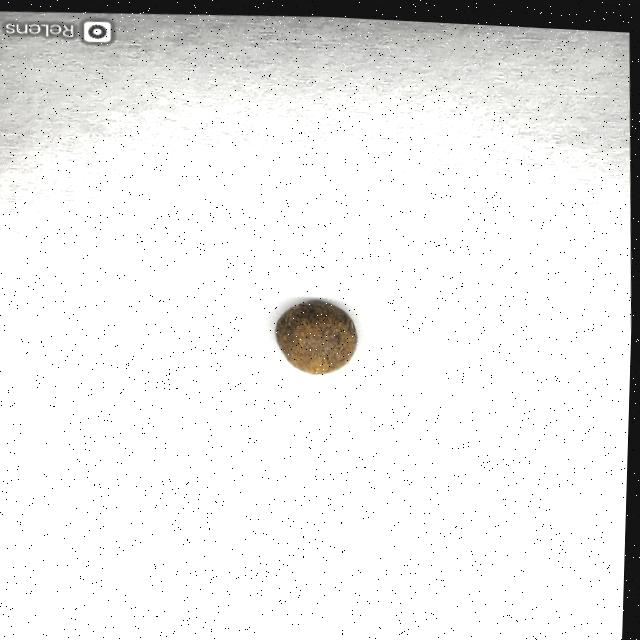Black: (275, 296, 361, 372)
